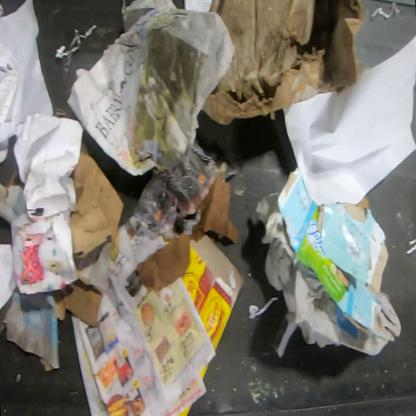cardboard: (198, 0, 366, 125), (276, 167, 389, 344), (181, 232, 247, 352), (69, 154, 124, 244), (66, 279, 101, 328)
